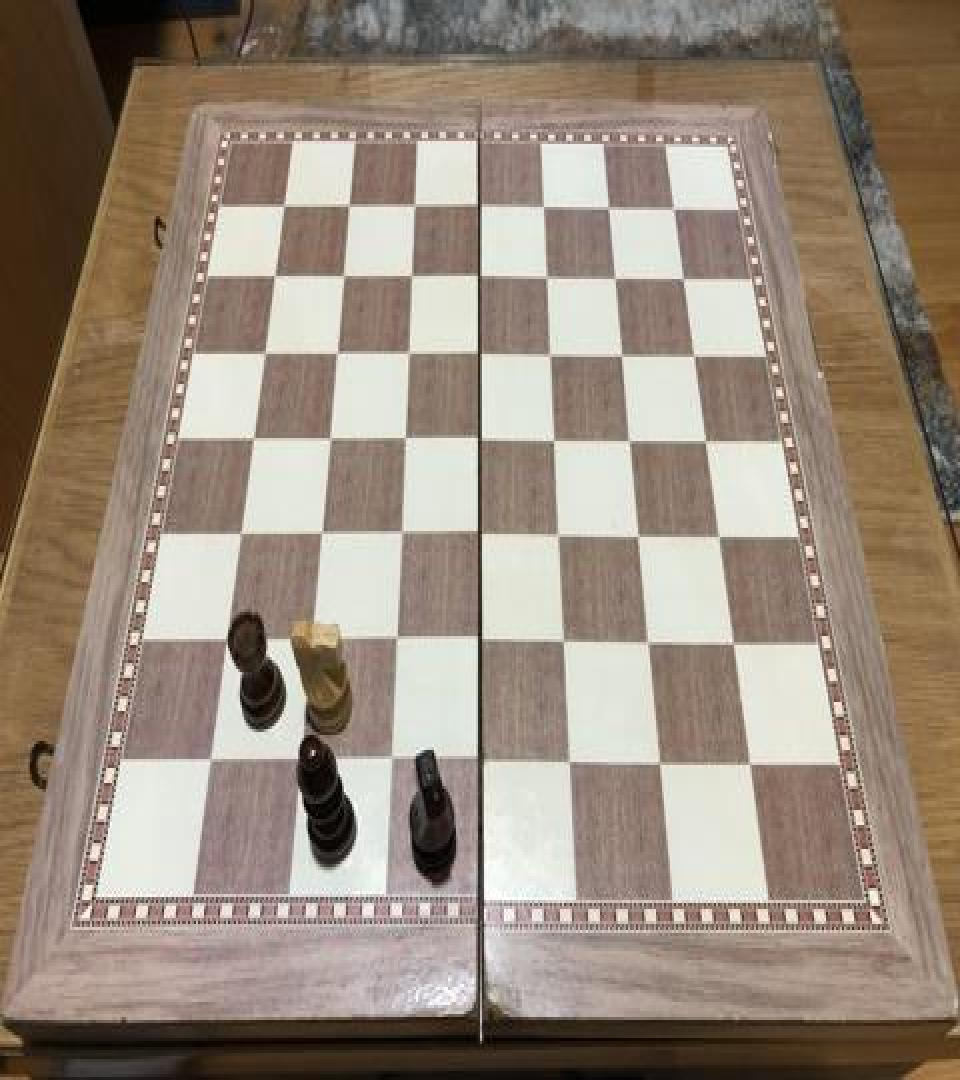xcorner: (308, 514, 332, 551), (228, 514, 252, 551), (637, 625, 661, 662), (383, 622, 407, 659), (298, 622, 322, 659), (738, 748, 762, 785), (196, 742, 220, 779), (663, 189, 687, 225), (599, 189, 623, 225), (404, 186, 428, 222), (339, 186, 363, 222), (274, 184, 298, 220), (537, 258, 561, 294), (469, 256, 493, 292), (401, 256, 425, 292), (333, 255, 357, 291), (264, 255, 288, 291), (683, 338, 707, 374), (612, 336, 636, 372), (540, 336, 564, 372), (469, 334, 493, 370), (397, 334, 421, 370), (325, 333, 349, 369), (254, 332, 278, 368), (695, 423, 719, 459), (619, 422, 643, 458), (544, 422, 568, 458), (468, 420, 492, 456), (393, 420, 417, 456), (317, 418, 341, 454), (242, 418, 266, 454), (708, 519, 732, 555), (628, 518, 652, 554), (548, 518, 572, 554), (468, 516, 492, 552), (388, 516, 412, 552), (722, 627, 746, 663), (553, 624, 577, 660), (468, 624, 492, 660), (213, 621, 237, 657), (648, 747, 672, 783), (558, 747, 582, 783), (468, 746, 492, 782), (377, 744, 401, 780), (287, 744, 311, 780), (534, 188, 558, 223), (469, 188, 493, 223), (673, 260, 697, 295), (605, 260, 629, 295)
